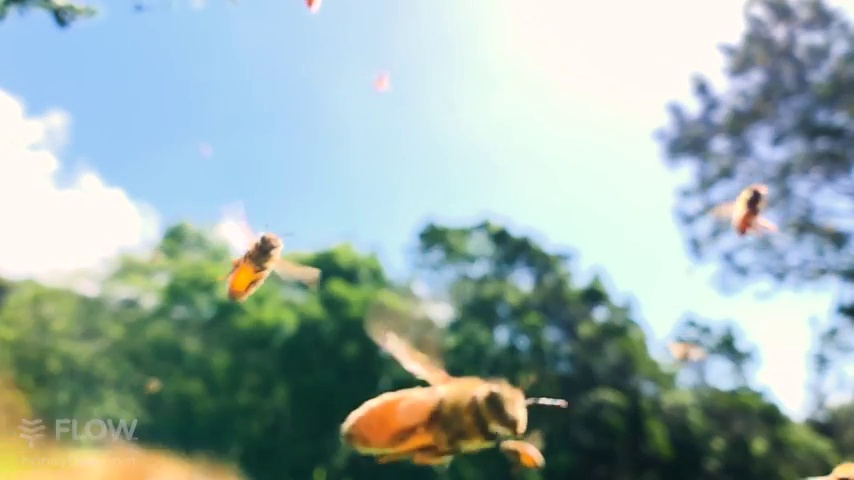insect: (344, 303, 568, 477), (220, 201, 324, 312), (709, 181, 780, 233)
